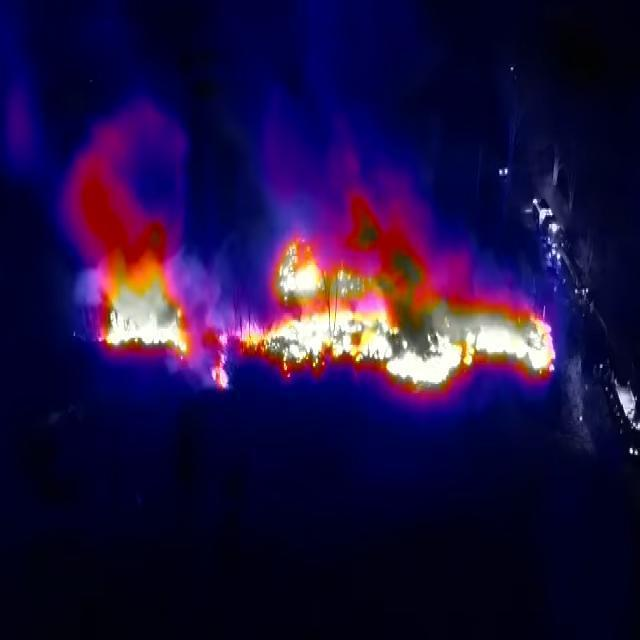fire: (211, 230, 561, 399), (84, 244, 198, 369)
